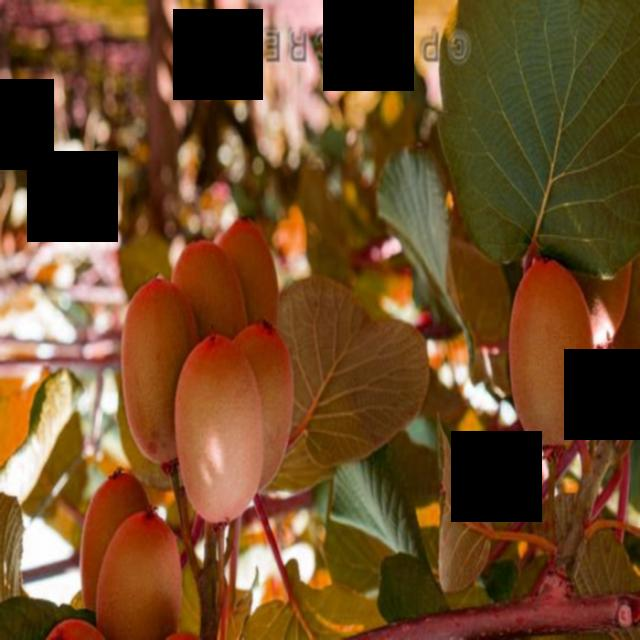kiwi: (499, 251, 604, 457), (173, 325, 267, 529), (117, 273, 202, 473), (91, 509, 191, 638), (233, 321, 301, 501), (75, 466, 152, 622), (166, 236, 252, 350), (556, 241, 634, 359), (217, 208, 287, 332), (44, 615, 110, 640)
